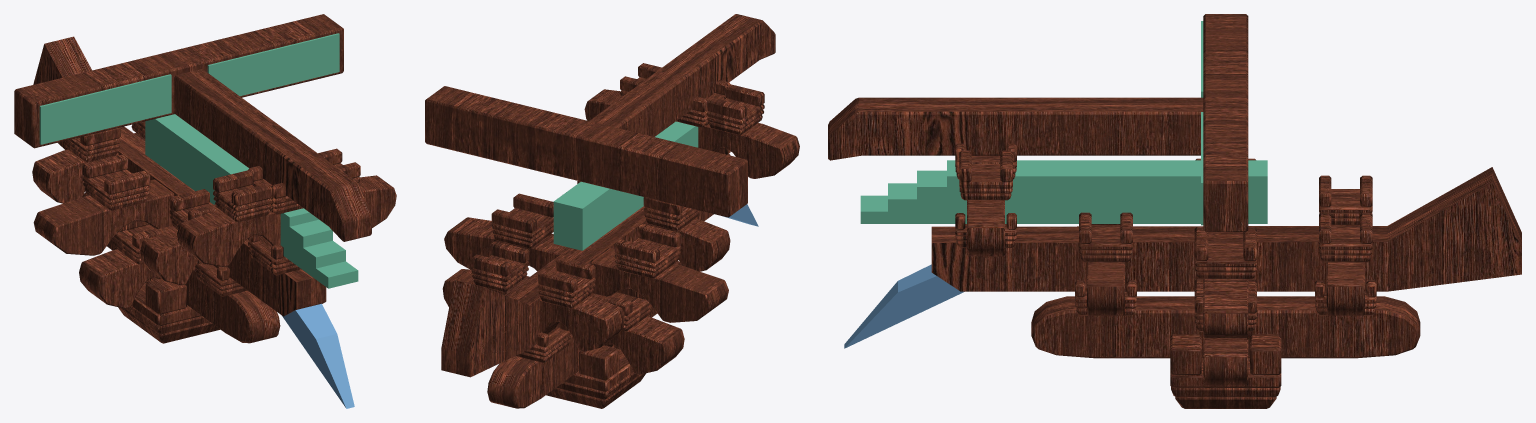
The model's file is dougong-wucai-danqiao-danang.glb.
The picture shows the model from 3 angles, left to right: view 1: azimuth 30°, elevation 25°; view 2: azimuth 150°, elevation 25°; view 3: azimuth 270°, elevation 25°; orthographic projection. The views are drawn at different scales.
Parts seen in each view (by area): view 1: chengtou, zhengxin_fang_cai, zhengxin_fang, shuatou, ang_shen, zhengxin_wangong, waizhuai_wangong, touqiao, zuodou, ang_zui, zhengxin_guagong, caosheng_wan_l (+10 smaller); view 2: zhengxin_fang, ang_shen, chengtou, zhengxin_wangong, shuatou, waizhuai_wangong, touqiao, lizhuai_guagong, zuodou, zhengxin_guagong, caosheng_wan_l, caosheng_wan_r (+9 smaller); view 3: ang_shen, chengtou, shuatou, touqiao, zhengxin_fang, zuodou, ang_zui, zhengxin_wangong, caosheng_wan_r, sancai_waiwan_r, sancai_waigua_r, sancai_ligua_r (+10 smaller).
Boxes of the visible parts, x1,y1,x2,y2 form: chengtou: (174,69,371,241); zhengxin_fang_cai: (39,33,339,144); zhengxin_fang: (14,14,343,148); shuatou: (145,114,358,288); ang_shen: (33,36,326,316); zhengxin_wangong: (33,179,174,255); waizhuai_wangong: (177,175,396,266); touqiao: (82,192,280,343); zuodou: (118,278,220,343); ang_zui: (281,303,354,408); zhengxin_guagong: (79,249,160,308); caosheng_wan_l: (82,154,150,210); zhengxin_fang: (425,86,747,217); ang_shen: (441,206,713,377); chengtou: (589,14,775,136); zhengxin_wangong: (444,217,728,322); shuatou: (553,121,698,250); waizhuai_wangong: (584,89,799,178); touqiao: (487,261,680,408); lizhuai_guagong: (442,269,624,351); zuodou: (546,345,645,408); zhengxin_guagong: (604,316,684,374); caosheng_wan_l: (614,223,681,278); caosheng_wan_r: (491,193,553,248); ang_shen: (931,167,1521,291); chengtou: (828,97,1203,160); shuatou: (860,160,1267,223); touqiao: (1031,296,1420,358); zhengxin_fang: (1203,14,1248,231); zuodou: (1170,334,1281,408); ang_zui: (844,264,964,348); zhengxin_wangong: (1203,279,1248,340); caosheng_wan_r: (1194,227,1256,279); sancai_waiwan_r: (959,150,1012,200); sancai_waigua_r: (1079,212,1132,262); sancai_ligua_r: (1319,212,1372,262).
Bounding box in the file's own units: 0.99 × 0.801 × 1.72.
Materials: 3 (1 with a texture image).
